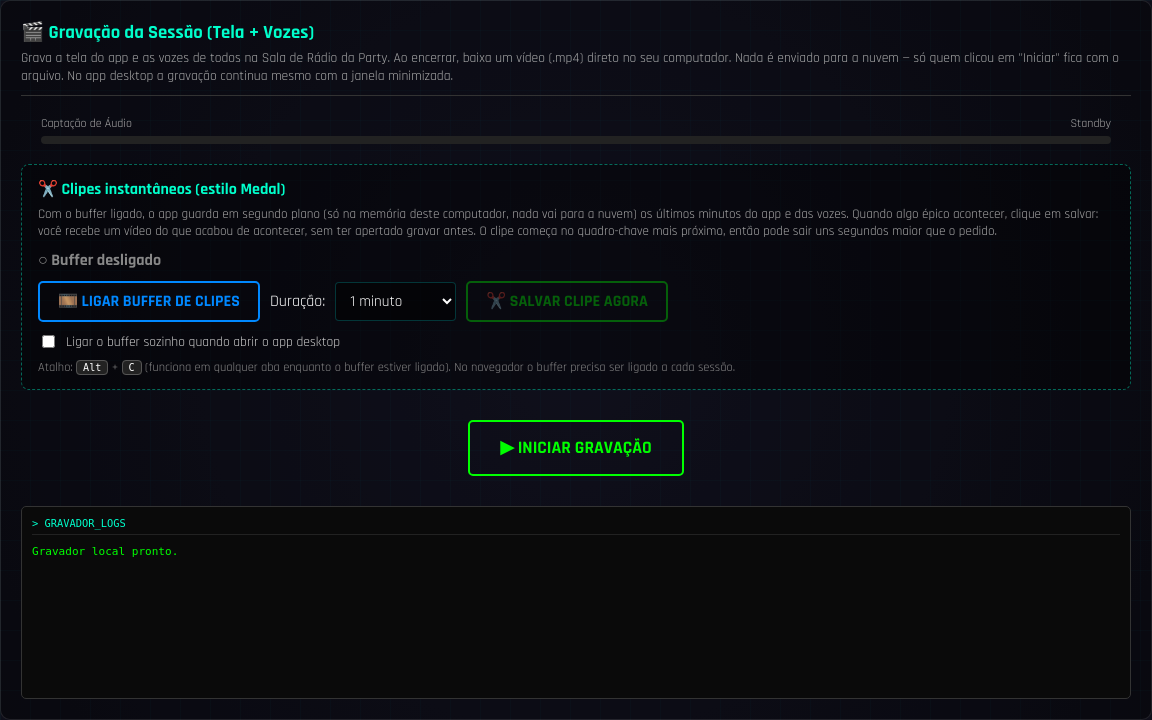
Test: GravadorPanel: modo clipe › no modo clipe o botao vira DESLIGAR e parar NAO baixa nada
Click the button "🎞️ LIGAR BUFFER DE CLIPES" at (149, 302), box 38,281 -> 260,322
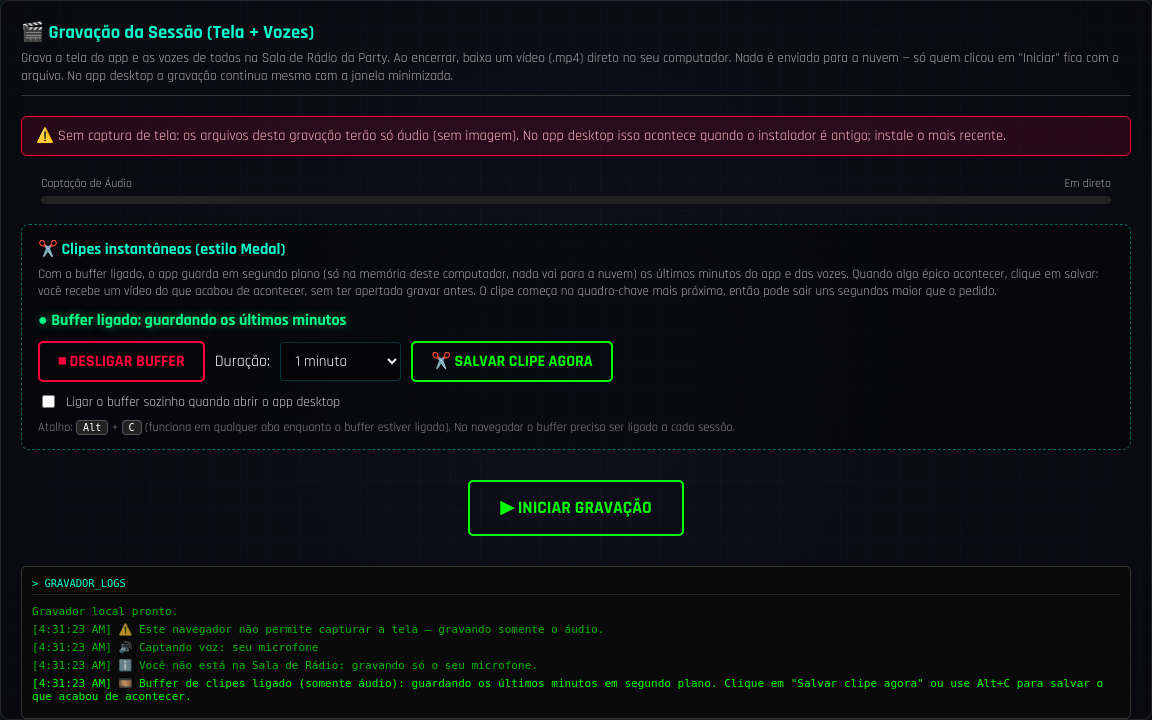
Check: the button "⏹ DESLIGAR BUFFER" is shown
Click the button "⏹ DESLIGAR BUFFER" at (121, 362), box 38,341 -> 205,382
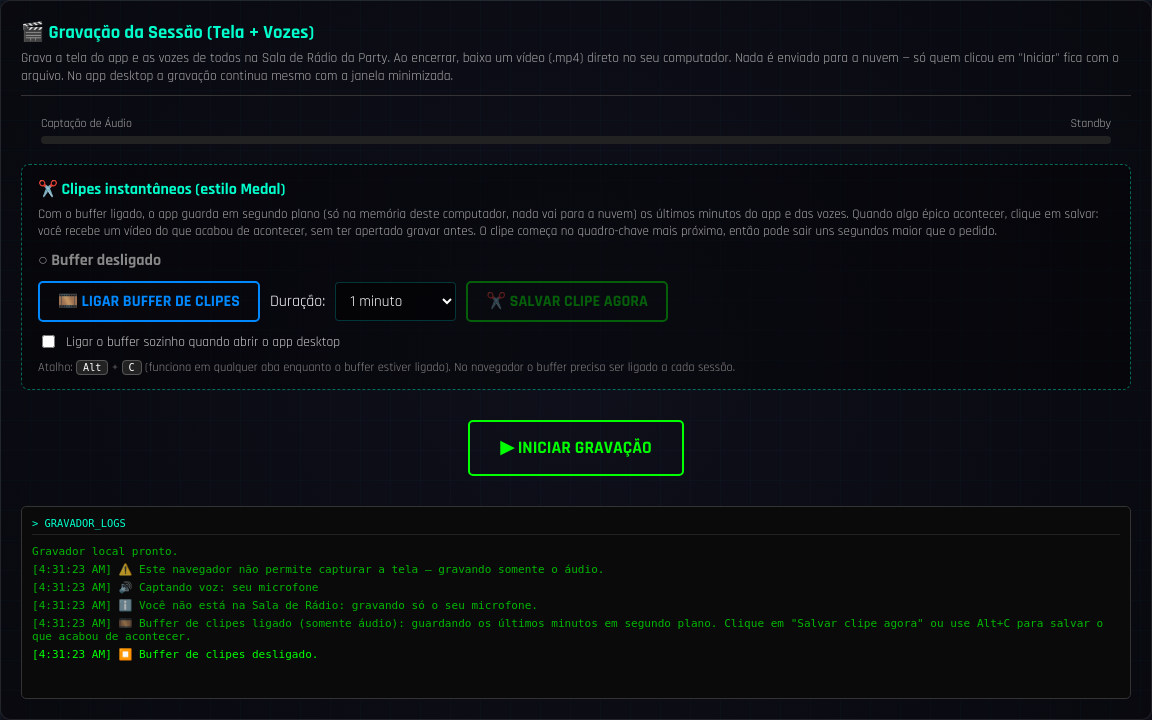
Check: the text "[4:31:23 AM] ⏹️ Buffer de clipes desligado." is shown, box 32,648 -> 318,661
Check: the button "🎞️ LIGAR BUFFER DE CLIPES" is shown, box 38,281 -> 260,322
